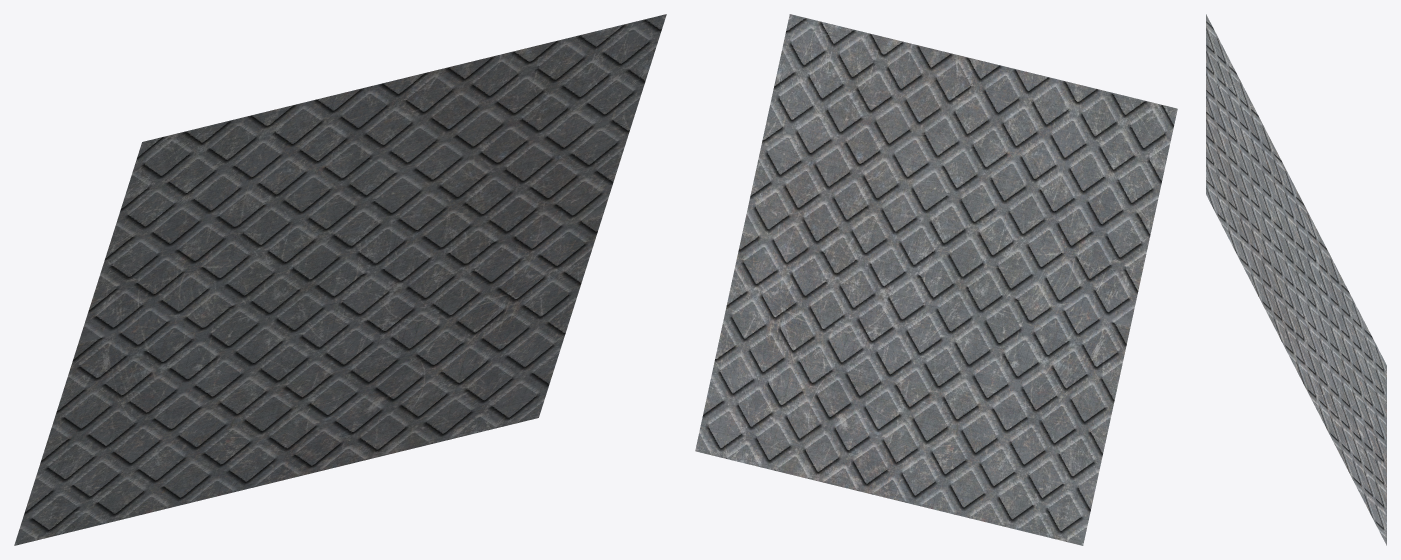
The model's file is ground1.dae.
The picture shows the model from 3 angles, left to right: view 1: azimuth 30°, elevation 25°; view 2: azimuth 150°, elevation 25°; view 3: azimuth 270°, elevation 25°; orthographic projection. The views are drawn at different scales.
Visible parts, largest first — view 1: Ground1; view 2: Ground1; view 3: Ground1.
Boxes of the visible parts, x1,y1,x2,y2 form: Ground1: (14, 14, 666, 545); Ground1: (695, 14, 1177, 545); Ground1: (1206, 14, 1386, 545).
Size of what is drawn, in the model's own units: 100 by 42.26 by 90.63.
Materials: 1 (1 with a texture image).
